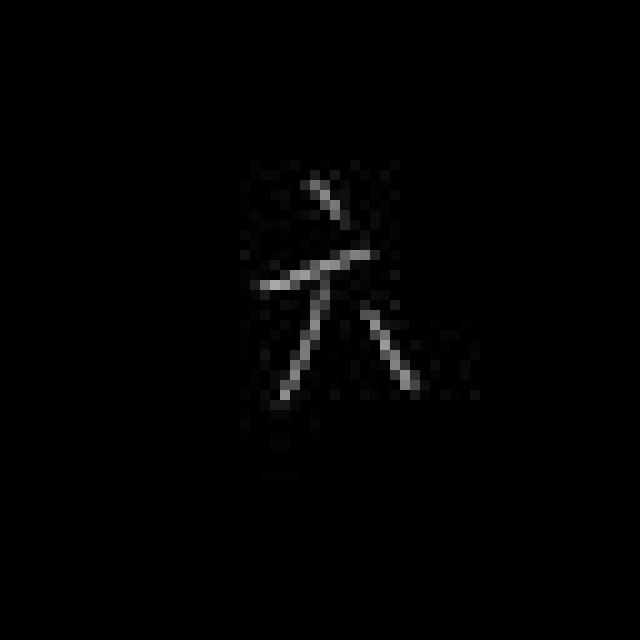6 -six-: (247, 172, 427, 422)
